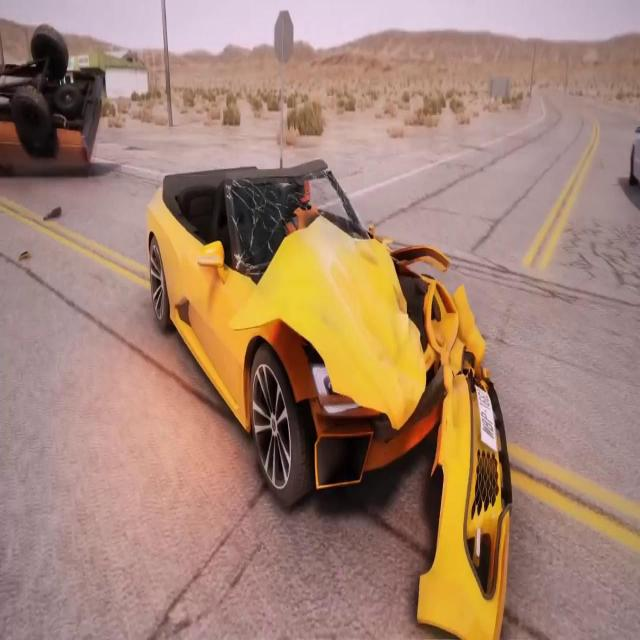accident: (144, 159, 514, 518), (2, 25, 112, 185)
